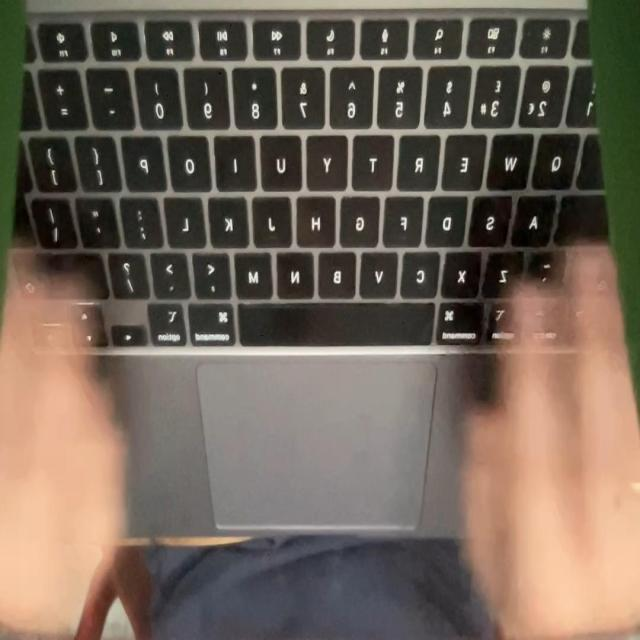keyboard-with-hands: (2, 0, 616, 545)
